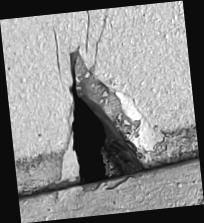crack: (1, 0, 204, 222)
